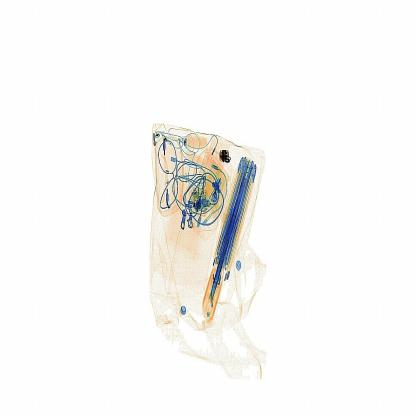scissors: (218, 148, 234, 168)
